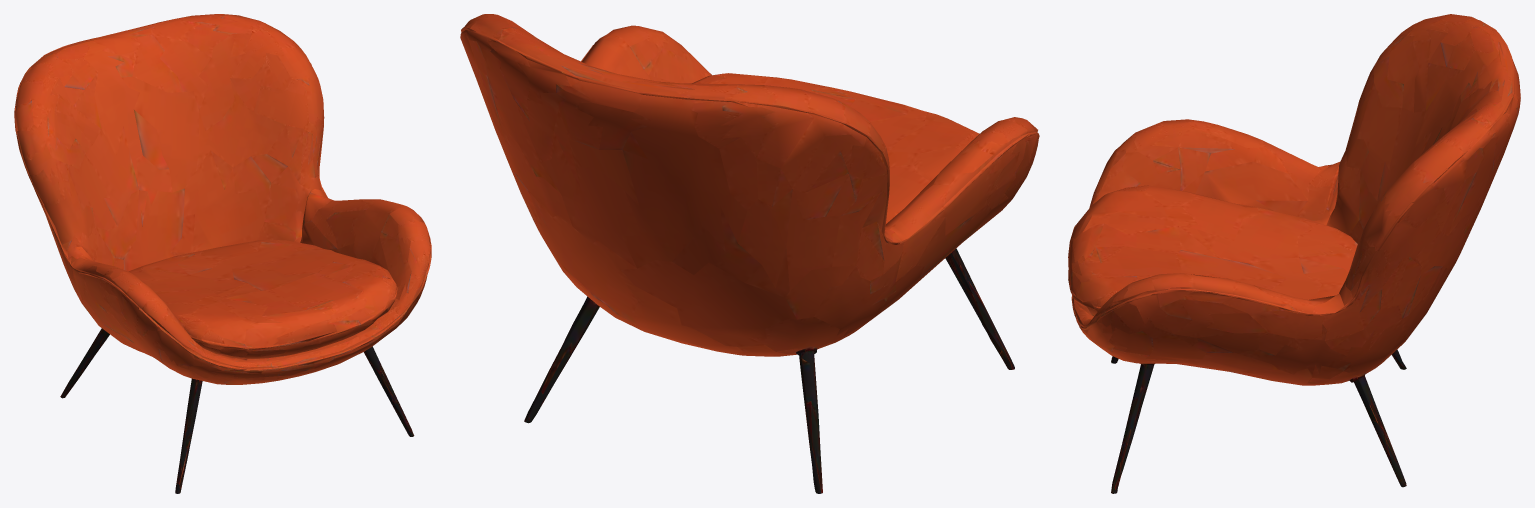
File: lounge.glb
3 renders of one model, left to right at view 1: azimuth 30°, elevation 25°; view 2: azimuth 150°, elevation 25°; view 3: azimuth 270°, elevation 25°, orthographic. The views are drawn at different scales.
Bounding box in the file's own units: 1.67 × 1.65 × 1.9.
Materials: 1 (1 with a texture image).
